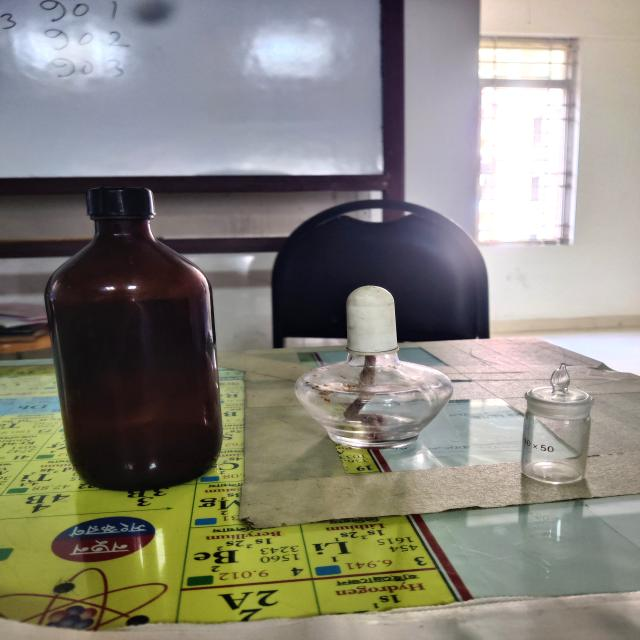Nessler_Reagent_Bottle: (21, 168, 252, 502)
Spirit_Lamp: (267, 267, 480, 475)
Weighing_Bottle: (495, 355, 623, 504)
